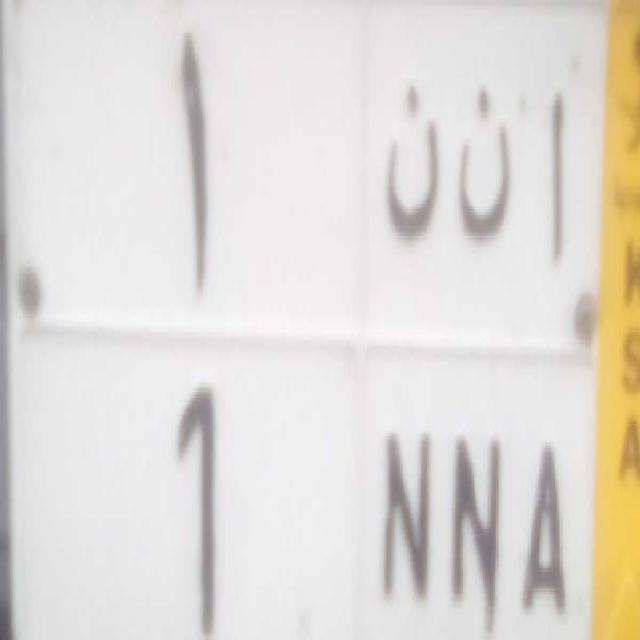license_plate: (7, 321, 598, 640)
